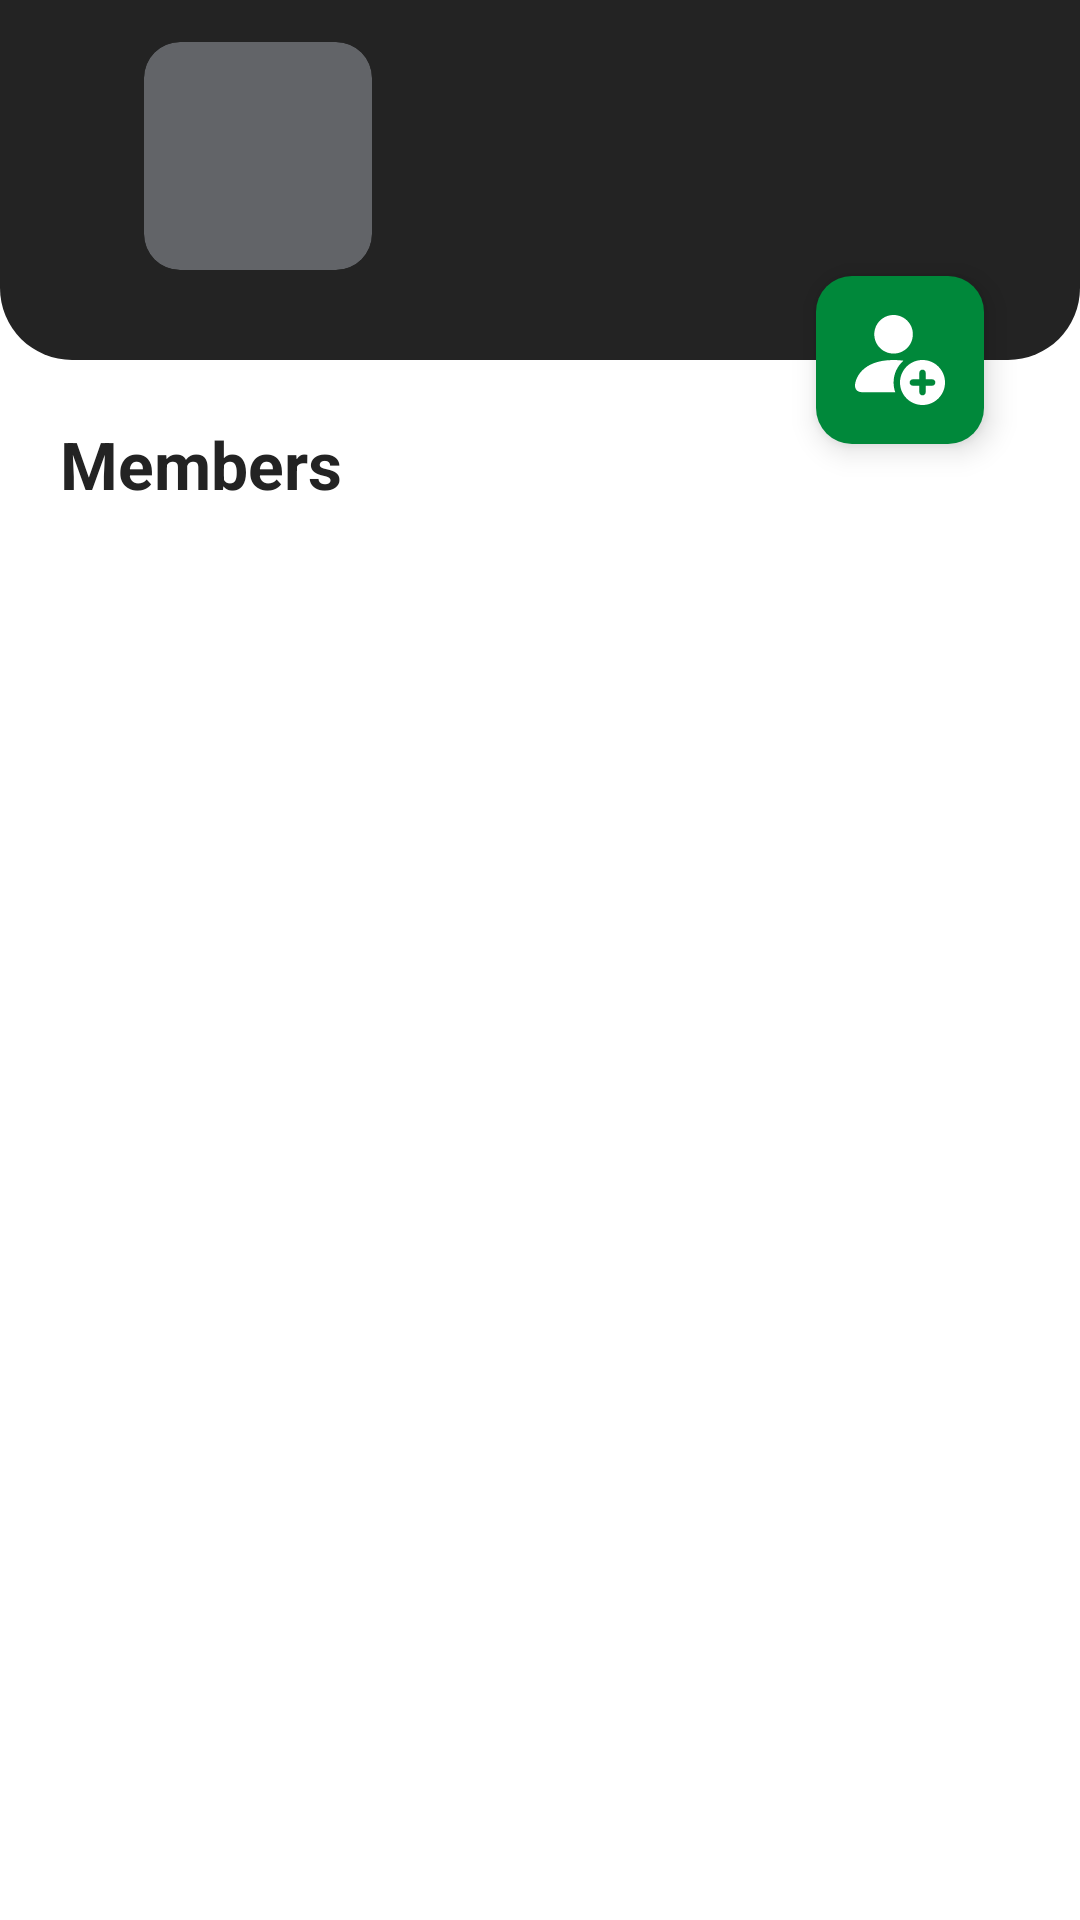

Where to tap for icons on this 1080*1920 app screen, as [x,y]:
profile add friend: [900,360]
